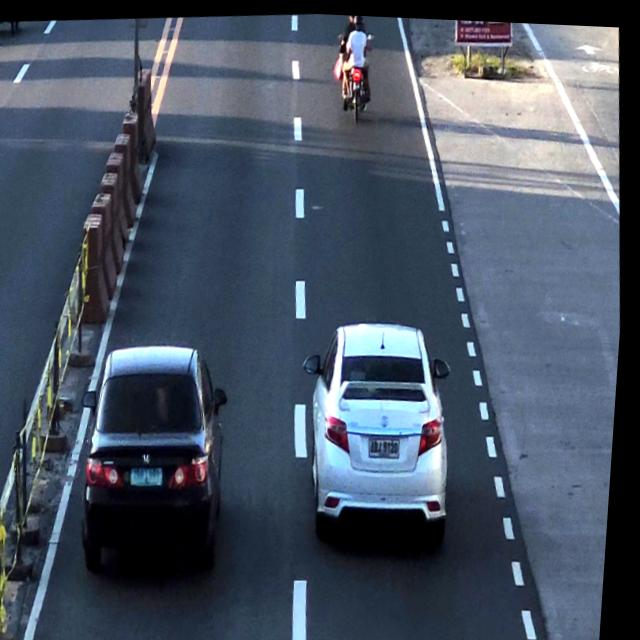Car: (296, 306, 476, 557), (75, 336, 242, 574)
License-Plate: (130, 460, 172, 488), (371, 428, 408, 458)
Motorcycle: (331, 12, 378, 132)
